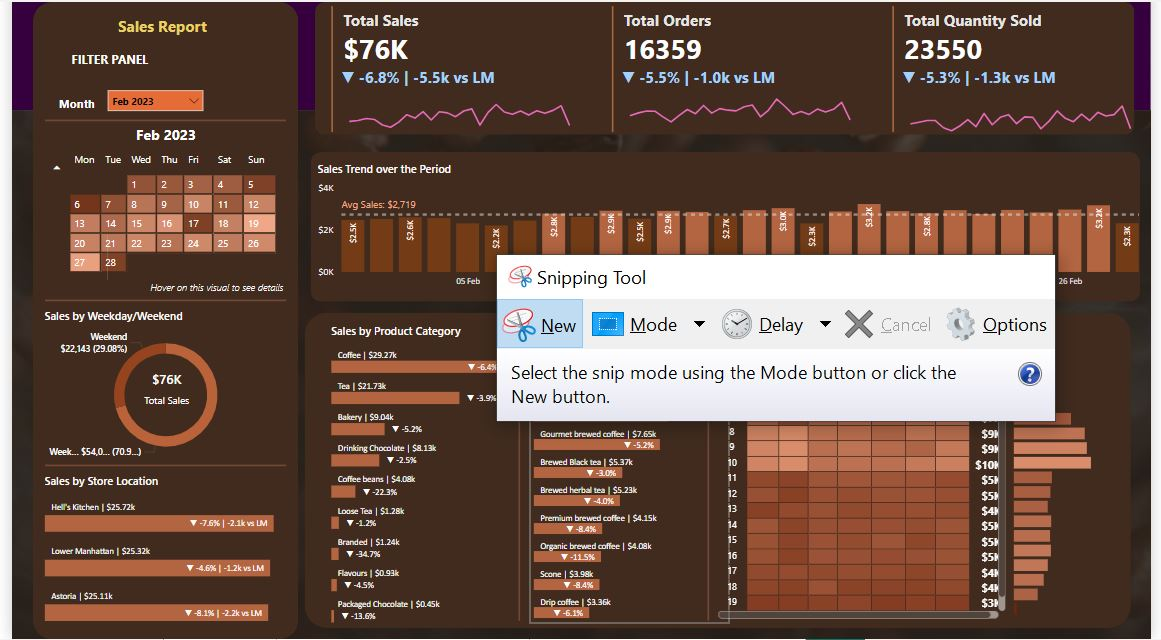

What the dashboard file says about the page in this screenshot:
{"tool":"powerbi","page":{"name":"Page 1","canvas":[1400,850],"ordinal":0},"visuals":[{"type":"shape","box":[0,0,1400.5,199.3],"z":0},{"type":"shape","box":[26.5,66.1,326.3,783.8],"z":1000},{"type":"shape","box":[373.5,67.3,1008.2,163.3],"z":2000},{"type":"textbox","box":[72,1.8,420.7,64.6],"z":3000},{"type":"cardVisual","fields":{"Data":["Transactions.Total Sales"]},"box":[386.9,67.2,299.8,165.4],"z":4000,"group":"g1"},{"type":"cardVisual","fields":{"Data":["Transactions.Total Orders"]},"box":[732,67.2,299.8,165.4],"z":4000,"group":"g2"},{"type":"cardVisual","fields":{"Data":["Transactions.Total Quantity Sold"]},"box":[1077,67.2,299.8,165.4],"z":4000,"group":"g3"},{"type":"slicer","fields":{"Values":["Date Table.Month Year"]},"box":[112.4,169.8,127.9,39.7],"z":4000},{"type":"group","id":"g1","title":"Group 1","box":[386.9,67.2,313.1,165.4],"z":5000},{"type":"group","id":"g2","title":"Group 1","box":[732,67.2,313.1,165.4],"z":6000},{"type":"lineChart","fields":{"Y":["Transactions.Total Sales"],"Category":["Date Table.Date Hierarchy.Date"]},"box":[400.1,146.6,299.8,86],"z":6000,"group":"g1"},{"type":"lineChart","fields":{"Category":["Date Table.Date Hierarchy.Date"],"Y":["Transactions.Total Orders"]},"box":[745.2,146.6,299.8,86],"z":6000,"group":"g2"},{"type":"lineChart","fields":{"Category":["Date Table.Date Hierarchy.Date"],"Y":["Transactions.Total Quantity Sold"]},"box":[1090.2,146.6,299.8,86],"z":6000,"group":"g3"},{"type":"group","id":"g3","title":"Group 1","box":[1077,67.2,313.1,165.4],"z":7000},{"type":"pivotTable","fields":{"Rows":["Date Table.Week Number"],"Columns":["Date Table.Day Name"],"Values":["Min(Date Table.Day Number)"]},"box":[40.8,243.6,296.5,190.7],"z":8000},{"type":"card","fields":{"Values":["Min(Date Table.Month Year)"]},"box":[112.4,201.7,153.2,60.6],"z":9000},{"type":"card","fields":{"Values":["Transactions.Foot Note"]},"box":[81.6,378.1,340.6,81.6],"z":10000},{"type":"shape","box":[40.8,412.3,296.5,44.1],"z":11000},{"type":"shape","box":[40.8,189.6,296.5,44.1],"z":12000},{"type":"donutChart","title":"Sales by Weekday/Weekend","fields":{"Category":["Date Table.Weekday/Weekend"],"Y":["Transactions.Total Sales"]},"box":[35.3,442,307.6,195.1],"z":13000},{"type":"card","fields":{"Values":["Transactions.Total Sales"]},"box":[124.6,499.4,129,80.5],"z":14000},{"type":"shape","box":[40.8,615.1,296.5,44.1],"z":15000},{"type":"clusteredBarChart","title":"Sales by Store Location","fields":{"Category":["Transactions.store_location"],"Y":["Transactions.Placeholder","Transactions.Total Sales"]},"box":[35.3,646,317.5,189.6],"z":16000},{"type":"shape","box":[366.4,250.2,1020.6,184.2],"z":17000},{"type":"columnChart","title":"Sales Trend over the Period","fields":{"Category":["Transactions.transaction_date"],"Y":["Transactions.Total Sales"]},"box":[370.4,262.4,1020.8,163.1],"z":18000},{"type":"shape","box":[360.5,447.6,1016.4,388],"z":19000},{"type":"clusteredBarChart","title":"Sales by Product Category","fields":{"Y":["Transactions.Placeholder","Transactions.Total Sales"],"Category":["Transactions.product_category"]},"box":[386.9,461.9,244.7,373.7],"z":20000},{"type":"shape","box":[584.3,454.2,78.3,373.7],"z":21000},{"type":"clusteredBarChart","title":"Sales by Product Category","fields":{"Y":["Transactions.Placeholder","Transactions.Total Sales"],"Category":["Transactions.product_type"]},"box":[637.2,456.4,244.7,373.7],"z":22000},{"type":"shape","box":[816.9,454.2,78.3,373.7],"z":23000},{"type":"pivotTable","fields":{"Rows":["Transactions.Hour"],"Columns":["Date Table.Day Name"],"Values":["Transactions.Total Sales"]},"box":[863.1,522.5,363.8,307.6],"z":24000},{"type":"clusteredBarChart","fields":{"Category":["Transactions.Hour"],"Y":["Transactions.Total Sales"]},"box":[1226.9,540.2,108,284.4],"z":25000},{"type":"columnChart","title":"Sales by Days | Hours","fields":{"Y":["Transactions.Total Sales"],"Category":["Date Table.Day Name"]},"box":[895.1,447.6,284.4,80.5],"z":26000},{"type":"textbox","box":[41.9,151,82.7,60.6],"z":27000},{"type":"textbox","box":[124.6,78.3,178.6,40.8],"z":28000},{"type":"textbox","box":[68.3,121.3,125.7,60.6],"z":29000},{"type":"image","box":[18.7,7.7,52.9,52.9],"z":30000}]}

Visuals, with their boxes on the page's 1400x850 design canvas (x1, y1, x2, y2). These are canvas units, not pixel positions in the 1161x640 screenshot, which may show the page scaled, cropped or inside an application window:
shape: x1=0 y1=0 x2=1400 y2=199
shape: x1=26 y1=66 x2=353 y2=850
shape: x1=374 y1=67 x2=1382 y2=231
textbox: x1=72 y1=2 x2=493 y2=66
cardVisual - Transactions.Total Sales: x1=387 y1=67 x2=687 y2=233
cardVisual - Transactions.Total Orders: x1=732 y1=67 x2=1032 y2=233
cardVisual - Transactions.Total Quantity Sold: x1=1077 y1=67 x2=1377 y2=233
slicer - Date Table.Month Year: x1=112 y1=170 x2=240 y2=210
"Group 1" group: x1=387 y1=67 x2=700 y2=233
"Group 1" group: x1=732 y1=67 x2=1045 y2=233
lineChart - Transactions.Total Sales x Date Table.Date Hierarchy.Date: x1=400 y1=147 x2=700 y2=233
lineChart - Date Table.Date Hierarchy.Date x Transactions.Total Orders: x1=745 y1=147 x2=1045 y2=233
lineChart - Date Table.Date Hierarchy.Date x Transactions.Total Quantity Sold: x1=1090 y1=147 x2=1390 y2=233
"Group 1" group: x1=1077 y1=67 x2=1390 y2=233
pivotTable - Date Table.Week Number x Date Table.Day Name: x1=41 y1=244 x2=337 y2=434
card - Min(Date Table.Month Year): x1=112 y1=202 x2=266 y2=262
card - Transactions.Foot Note: x1=82 y1=378 x2=422 y2=460
shape: x1=41 y1=412 x2=337 y2=456
shape: x1=41 y1=190 x2=337 y2=234
"Sales by Weekday/Weekend" donutChart: x1=35 y1=442 x2=343 y2=637
card - Transactions.Total Sales: x1=125 y1=499 x2=254 y2=580
shape: x1=41 y1=615 x2=337 y2=659
"Sales by Store Location" clusteredBarChart: x1=35 y1=646 x2=353 y2=836
shape: x1=366 y1=250 x2=1387 y2=434
"Sales Trend over the Period" columnChart: x1=370 y1=262 x2=1391 y2=426
shape: x1=360 y1=448 x2=1377 y2=836
"Sales by Product Category" clusteredBarChart: x1=387 y1=462 x2=632 y2=836
shape: x1=584 y1=454 x2=663 y2=828
"Sales by Product Category" clusteredBarChart: x1=637 y1=456 x2=882 y2=830
shape: x1=817 y1=454 x2=895 y2=828
pivotTable - Transactions.Hour x Date Table.Day Name: x1=863 y1=522 x2=1227 y2=830
clusteredBarChart - Transactions.Hour x Transactions.Total Sales: x1=1227 y1=540 x2=1335 y2=825
"Sales by Days | Hours" columnChart: x1=895 y1=448 x2=1180 y2=528
textbox: x1=42 y1=151 x2=125 y2=212
textbox: x1=125 y1=78 x2=303 y2=119
textbox: x1=68 y1=121 x2=194 y2=182
image: x1=19 y1=8 x2=72 y2=61
